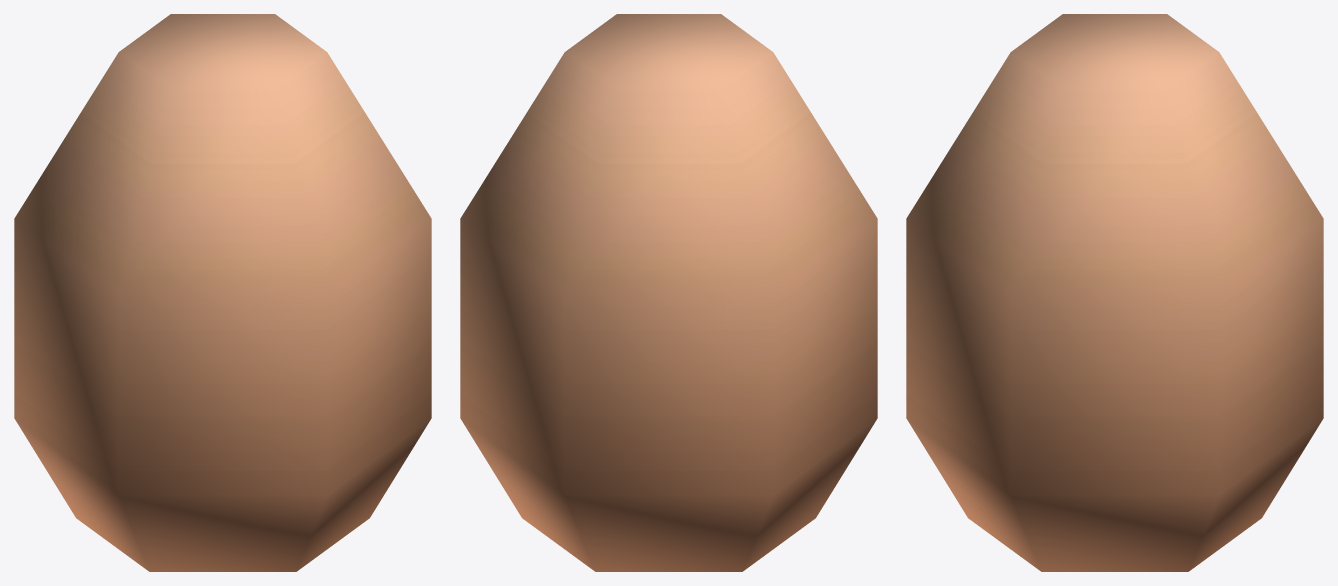
Rendered from egg.glb.
3 renders of one model, left to right at view 1: azimuth 30°, elevation 25°; view 2: azimuth 150°, elevation 25°; view 3: azimuth 270°, elevation 25°, orthographic.
Visible parts, largest first — view 1: egg; view 2: egg; view 3: egg.
Part boxes in pixels (x1=…): egg: x1=14, y1=14, x2=431, y2=571; egg: x1=460, y1=14, x2=877, y2=571; egg: x1=906, y1=14, x2=1323, y2=571.
Bounding box in the file's own units: 0.0422 × 0.06 × 0.0487.
Materials: 1 (1 with a texture image).
